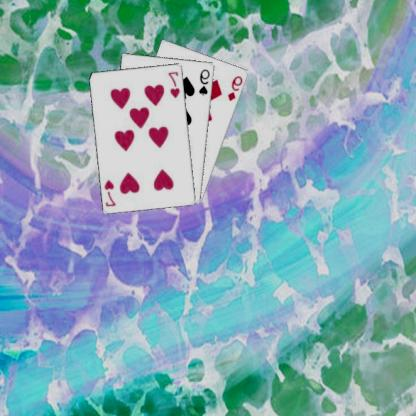7H: (167, 68, 183, 100), (104, 177, 118, 208)
9D: (227, 73, 246, 102)
9S: (199, 66, 213, 97)
